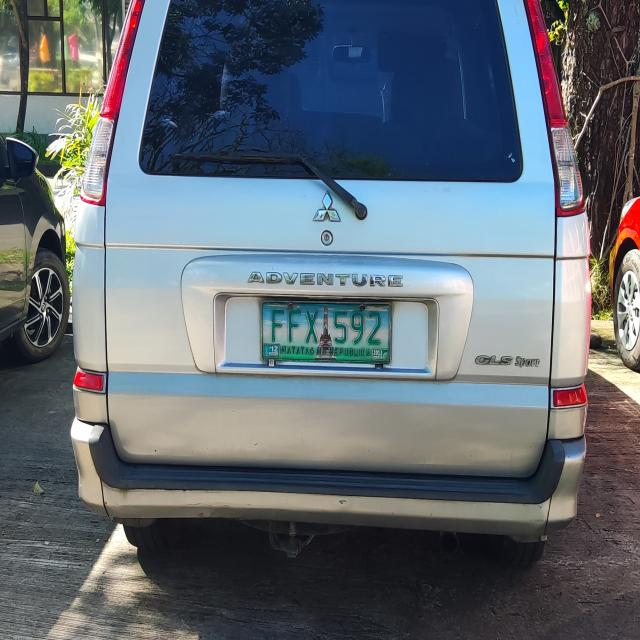plate: (258, 296, 395, 370)
